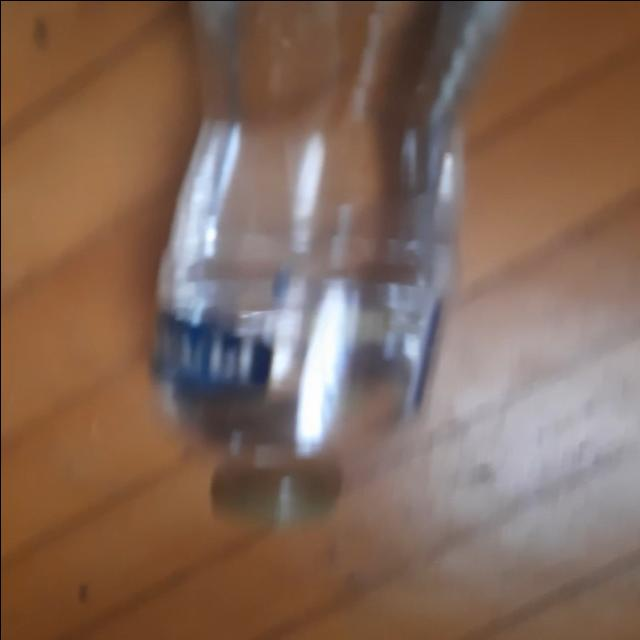Plastic: (148, 0, 520, 521)
